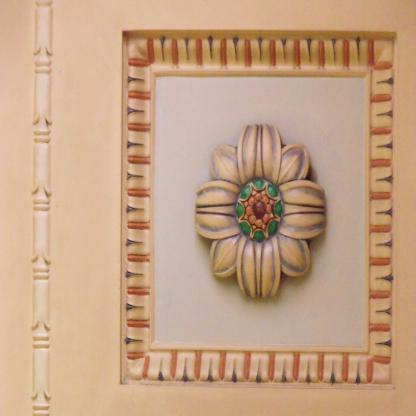Picture-frame: (122, 34, 395, 389)
